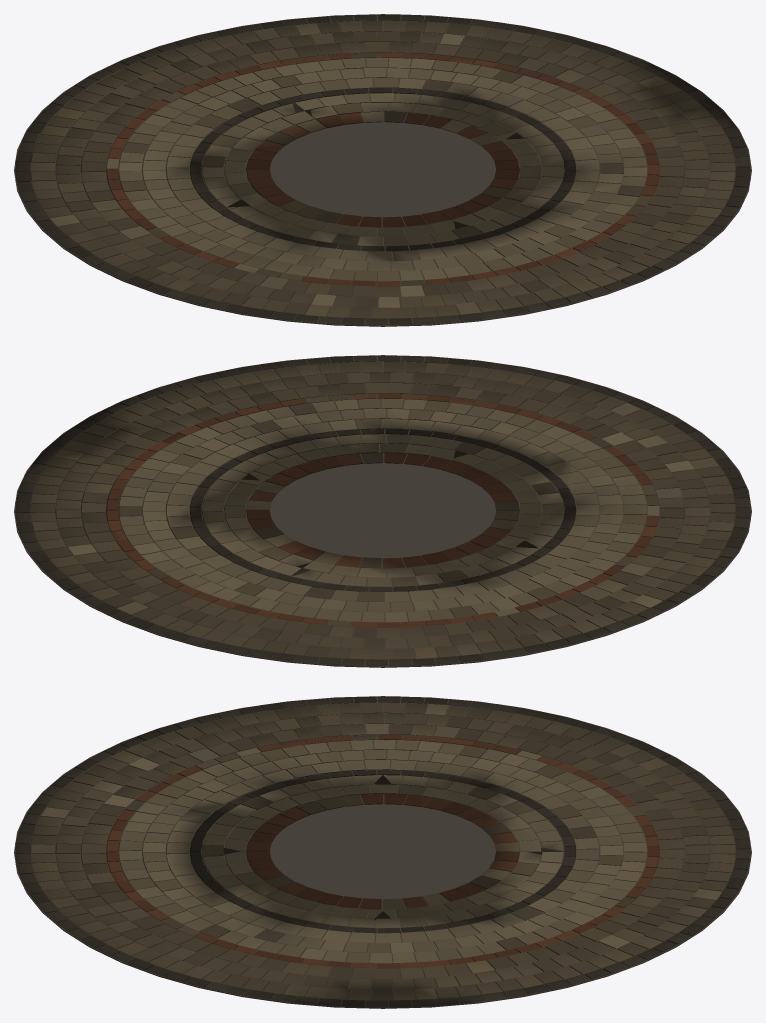
The model's file is Praca4.fbx.
3 renders of one model, top to bottom at view 1: azimuth 30°, elevation 25°; view 2: azimuth 150°, elevation 25°; view 3: azimuth 270°, elevation 25°, orthographic.
Visible parts, largest first — view 1: Praca4; view 2: Praca4; view 3: Praca4.
Part boxes in pixels (x1,y1,x2,y2): Praca4: (14,14,751,326); Praca4: (14,355,751,667); Praca4: (14,696,751,1008).
Bounding box in the file's own units: 30 × 0.078 × 30.
